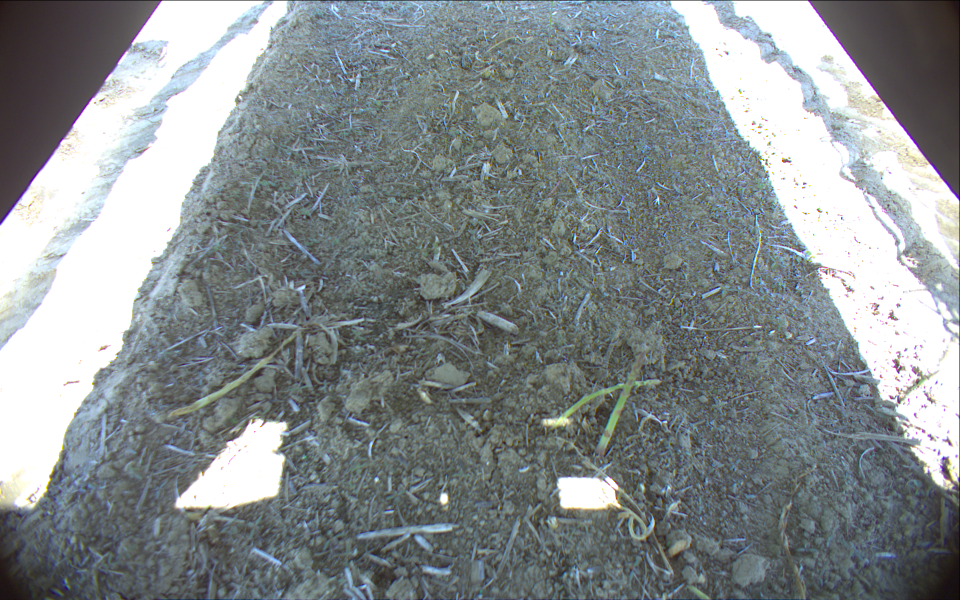aspa: (592, 352, 645, 460)
